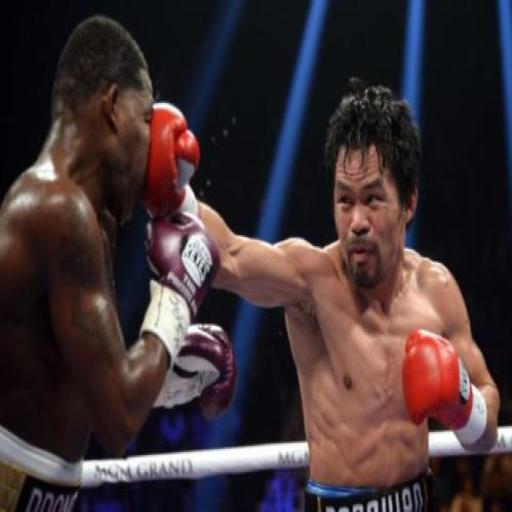boxing: (140, 78, 502, 510), (0, 12, 237, 510)
